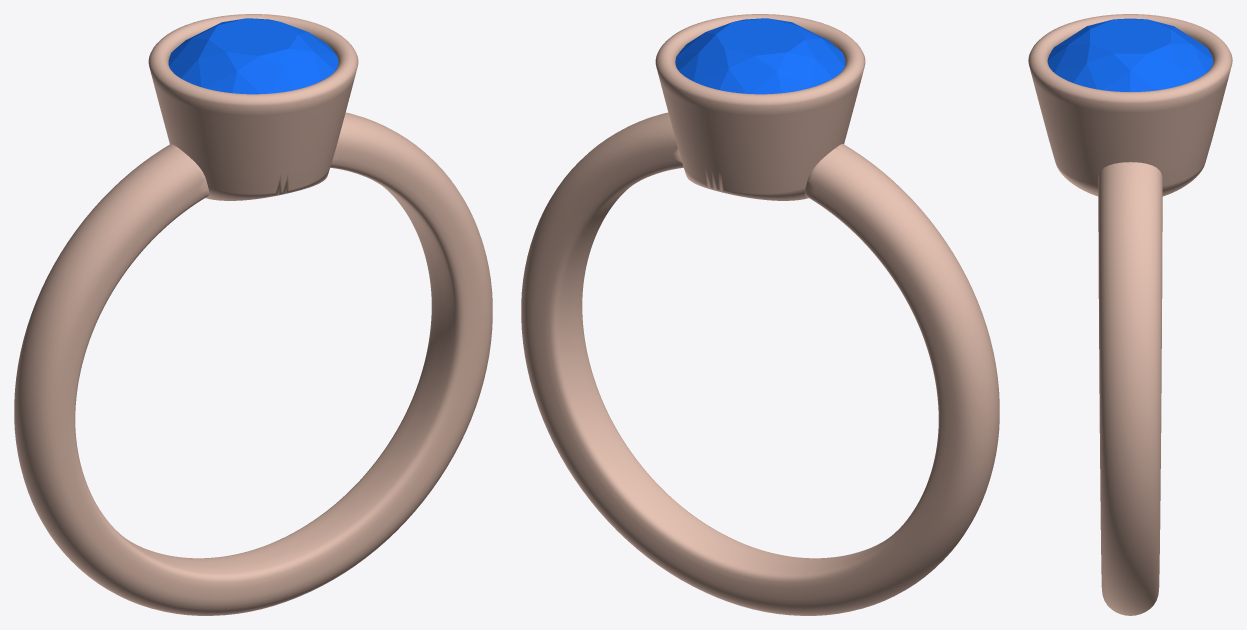
The model's file is bluesapphire-round-rosegold-bezelset-straightband-nosidestones.glb.
The picture shows the model from 3 angles, left to right: view 1: azimuth 30°, elevation 25°; view 2: azimuth 150°, elevation 25°; view 3: azimuth 270°, elevation 25°; orthographic projection. The views are drawn at different scales.
Parts seen in each view (by area): view 1: metal, stone; view 2: metal, stone; view 3: metal, stone.
Part boxes in pixels (box(x1,y1,x2,y2)): metal: box(14, 14, 492, 615); stone: box(168, 18, 338, 94); metal: box(521, 14, 999, 615); stone: box(675, 18, 845, 94); metal: box(1028, 14, 1232, 615); stone: box(1047, 18, 1213, 91).
Bounding box in the file's own units: 20.5 × 23.81 × 7.94.
